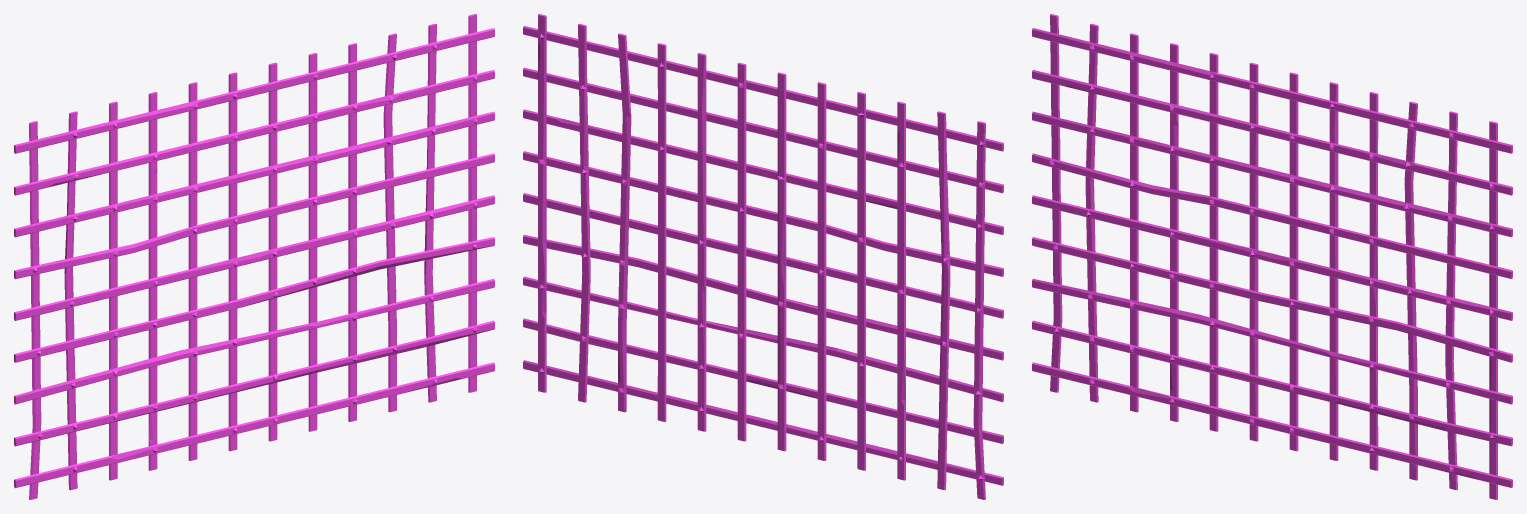
Rendered from SM_Wall_Bars_4x3m_Fantasy.fbx.
The picture shows the model from 3 angles, left to right: view 1: azimuth 30°, elevation 25°; view 2: azimuth 150°, elevation 25°; view 3: azimuth 330°, elevation 25°; orthographic projection.
Visible parts, largest first — view 1: SM_Wall_Bars_4x3m_Fantasy; view 2: SM_Wall_Bars_4x3m_Fantasy; view 3: SM_Wall_Bars_4x3m_Fantasy.
Boxes of the visible parts, x1,y1,x2,y2 form: SM_Wall_Bars_4x3m_Fantasy: (14,14,494,499); SM_Wall_Bars_4x3m_Fantasy: (523,14,1003,499); SM_Wall_Bars_4x3m_Fantasy: (1032,14,1512,499).
Size of the model in its own units: 4 by 3 by 0.092.
